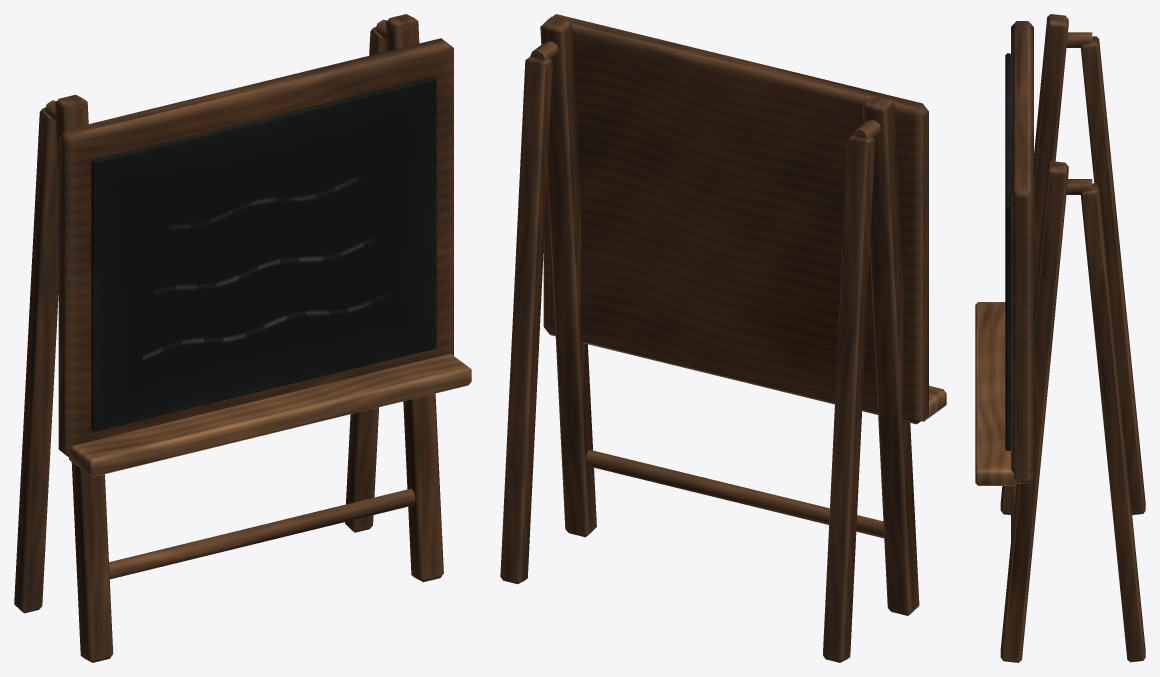
Rendered from Furn_Vacant_EaselBoard.fbx.
The picture shows the model from 3 angles, left to right: view 1: azimuth 30°, elevation 25°; view 2: azimuth 150°, elevation 25°; view 3: azimuth 270°, elevation 25°; orthographic projection. The views are drawn at different scales.
Visible parts, largest first — view 1: Furn_Vacant_EaselBoard; view 2: Furn_Vacant_EaselBoard; view 3: Furn_Vacant_EaselBoard.
Part boxes in pixels (box(x1,y1,x2,y2)): Furn_Vacant_EaselBoard: box(14, 14, 471, 662); Furn_Vacant_EaselBoard: box(500, 14, 946, 662); Furn_Vacant_EaselBoard: box(975, 14, 1145, 662).
Size of the model in its own units: 1.2 by 1.6 by 0.5.
3 materials, 3 textured.
